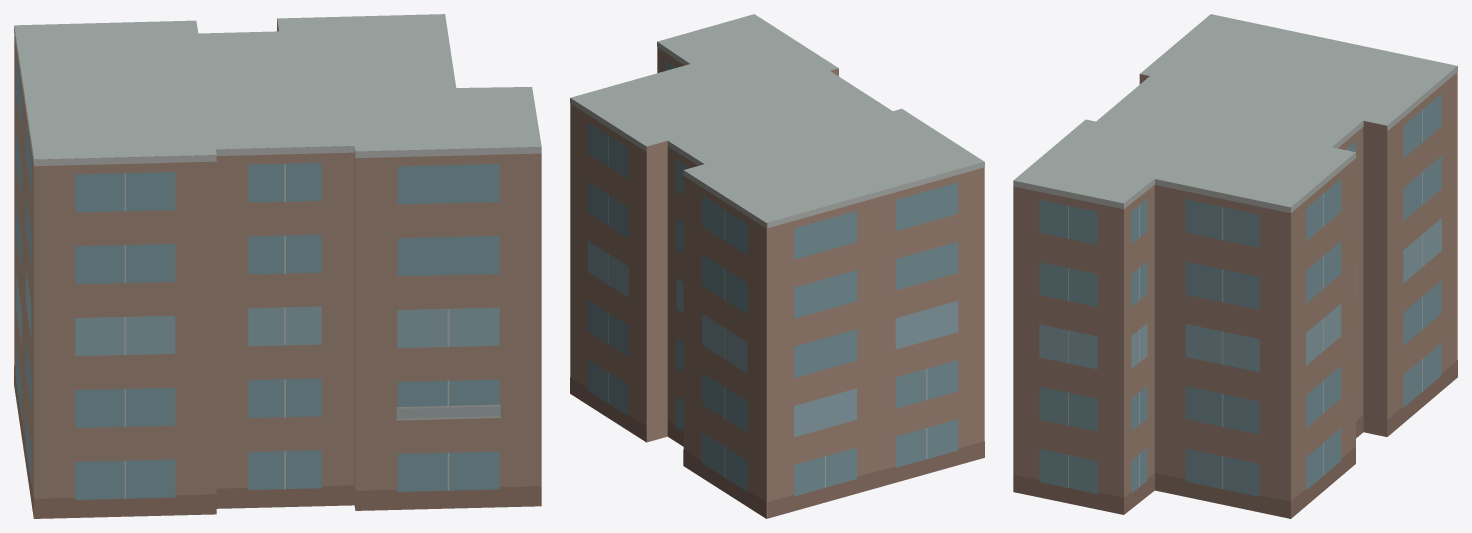
The model's file is survey-upis-32981567.glb.
3 views of the same model, side by side, from view 1: azimuth 30°, elevation 25°; view 2: azimuth 150°, elevation 25°; view 3: azimuth 270°, elevation 25° (orthographic). The views are drawn at different scales.
Visible parts, largest first — view 1: survey-upis-32981567.tmp; view 2: survey-upis-32981567.tmp; view 3: survey-upis-32981567.tmp.
Part boxes in pixels (left/top/right/bottom): survey-upis-32981567.tmp: left=14, top=14, right=541, bottom=518; survey-upis-32981567.tmp: left=570, top=14, right=984, bottom=518; survey-upis-32981567.tmp: left=1013, top=14, right=1457, bottom=518.
Size of the model in its own units: 17.32 by 13 by 16.82.
